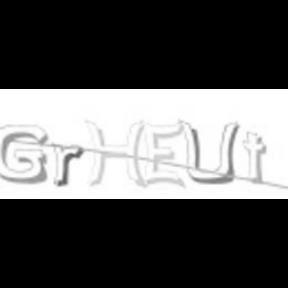E: (140, 120, 186, 188)
G: (0, 122, 50, 184)
H: (84, 115, 146, 189)
U: (176, 117, 240, 185)
r: (50, 141, 84, 187)
t: (240, 131, 268, 186)
